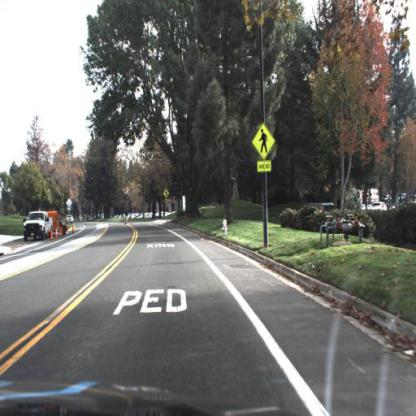car: (22, 211, 69, 241)
pedestrian: (124, 209, 134, 225)
